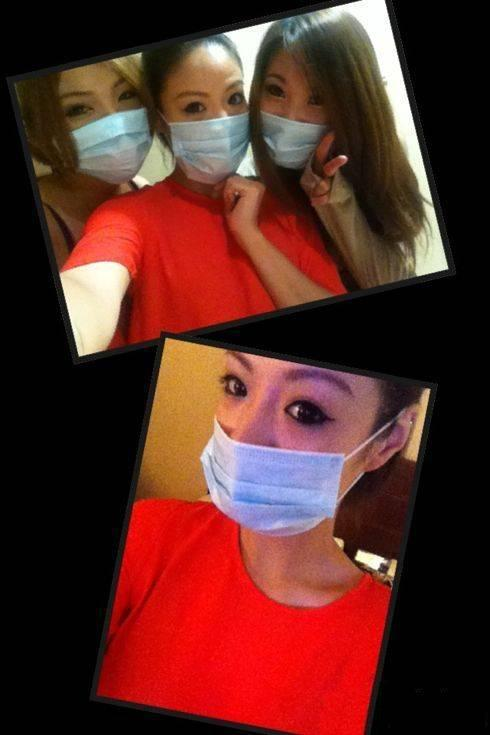OK: (56, 74, 160, 178), (153, 79, 253, 179)
WRONG: (205, 368, 360, 531), (258, 74, 345, 168)
